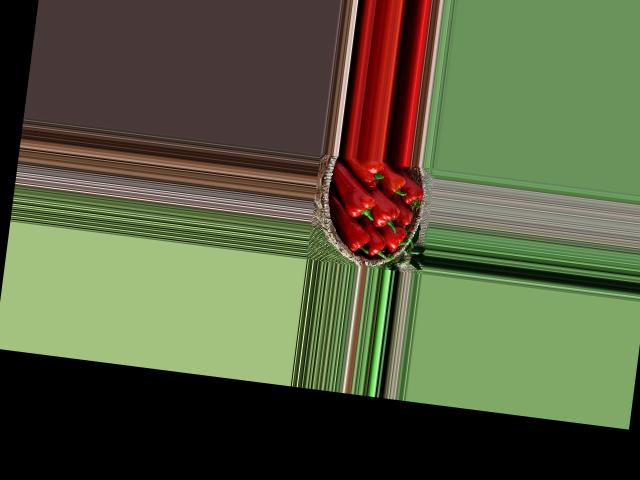bell_pepper: (363, 229, 391, 262)
